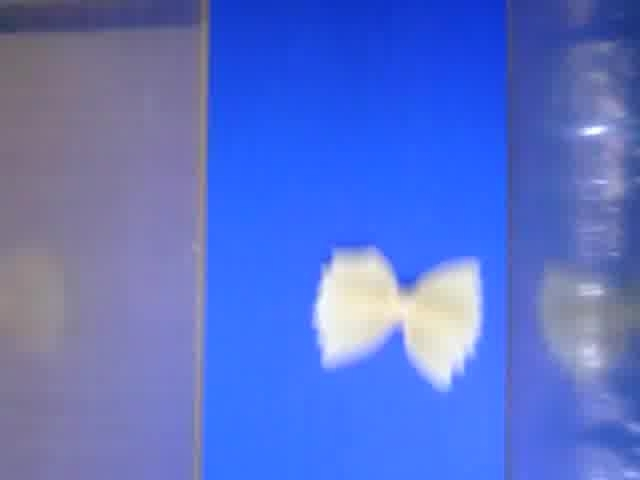farfalle: (314, 243, 483, 392)
